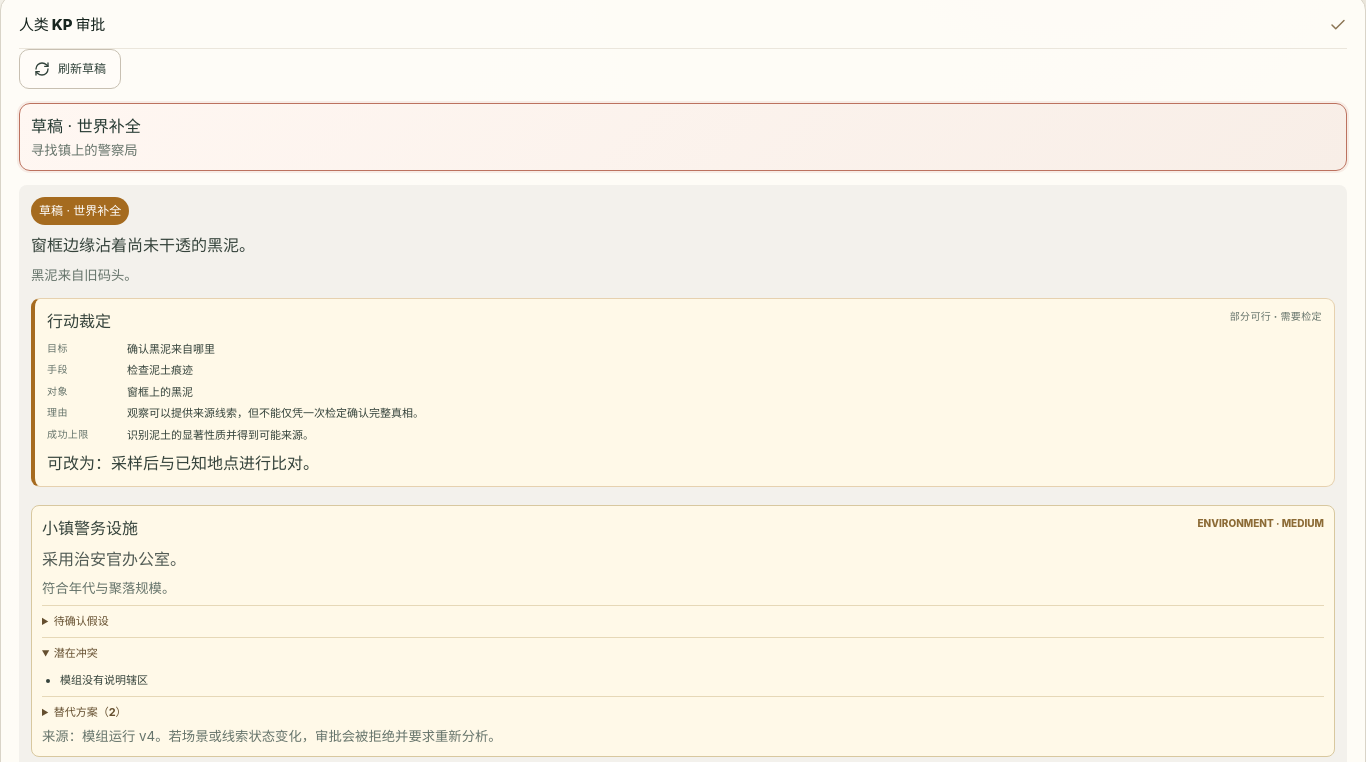
Test: ProposalPanel › shows a world-expansion basis, risks and alternatives
Expected: the button "草稿 · 世界补全 寻找镇上的警察局" is shown, [19, 102, 1347, 172]
Expected: the text "小镇警务设施" is shown, [42, 516, 138, 540]
Click the heading "替代方案（2）" at x=90, y=712, box [54, 704, 126, 718]
(page scrolled)
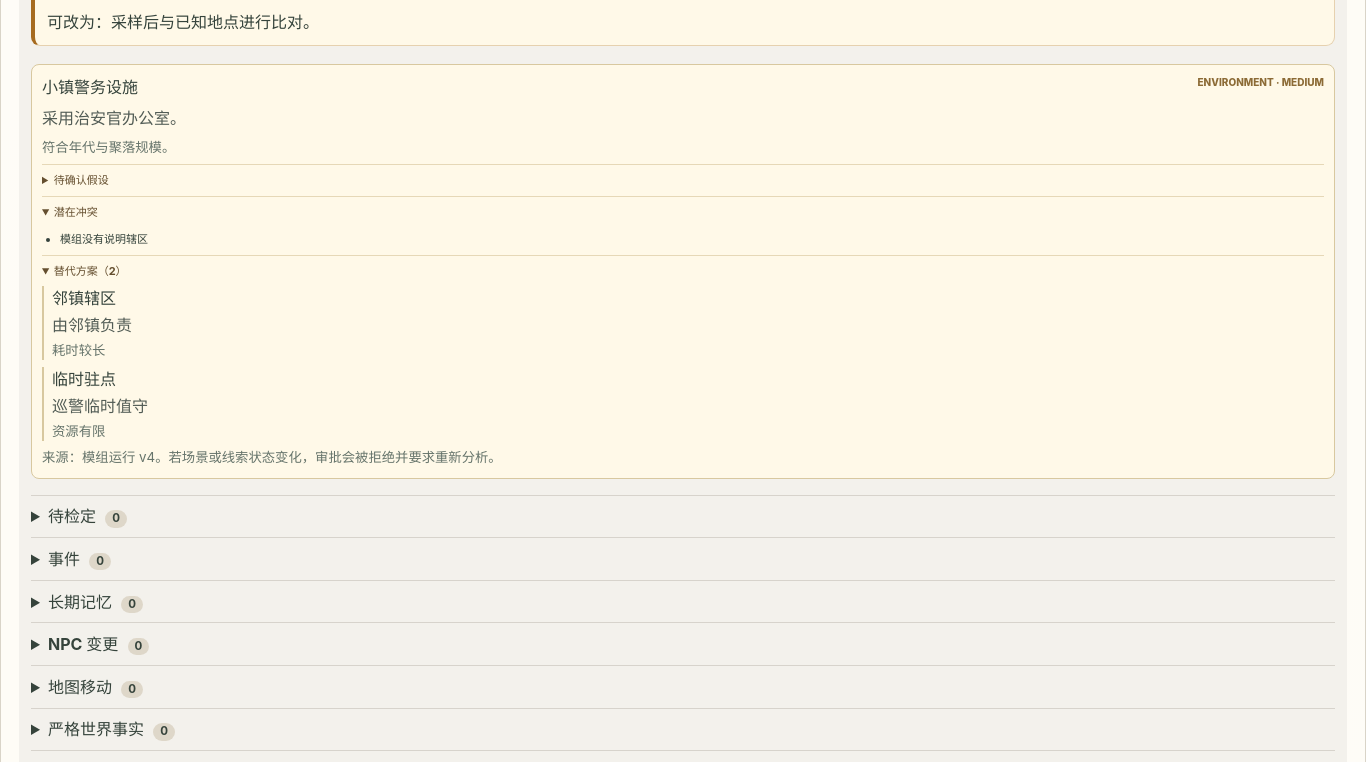
Result: the text "邻镇辖区" is shown at [52, 288, 116, 308]
Result: the text "临时驻点" is shown at [52, 369, 116, 389]
